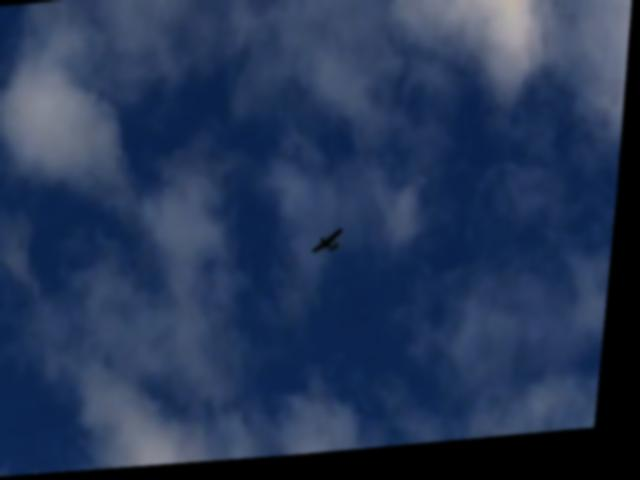uav: (316, 231, 349, 262)
